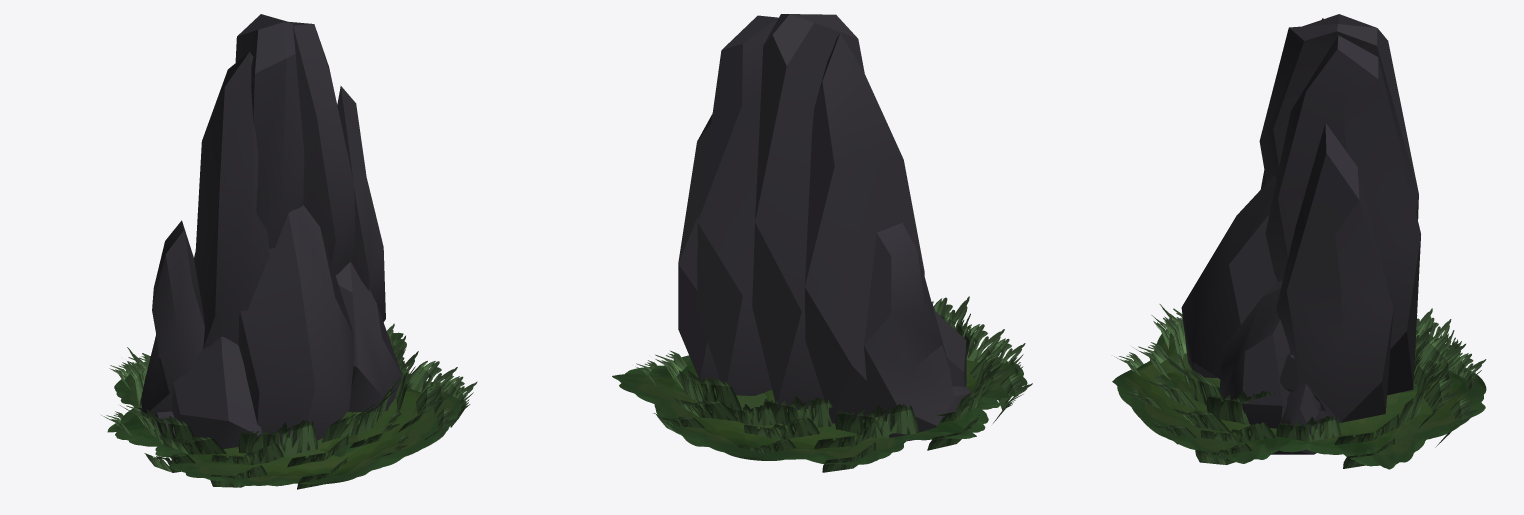
File: Montanha2.fbx
3 views of the same model, side by side, from view 1: azimuth 30°, elevation 25°; view 2: azimuth 150°, elevation 25°; view 3: azimuth 270°, elevation 25° (orthographic). The views are drawn at different scales.
Visible parts, largest first — view 1: Montanha2; view 2: Montanha2; view 3: Montanha2.
Boxes of the visible parts, bbox=[...] form: Montanha2: bbox=[101, 14, 477, 489]; Montanha2: bbox=[612, 14, 1032, 472]; Montanha2: bbox=[1112, 14, 1486, 469].
Size of the model in its own units: 567 by 485 by 448.
